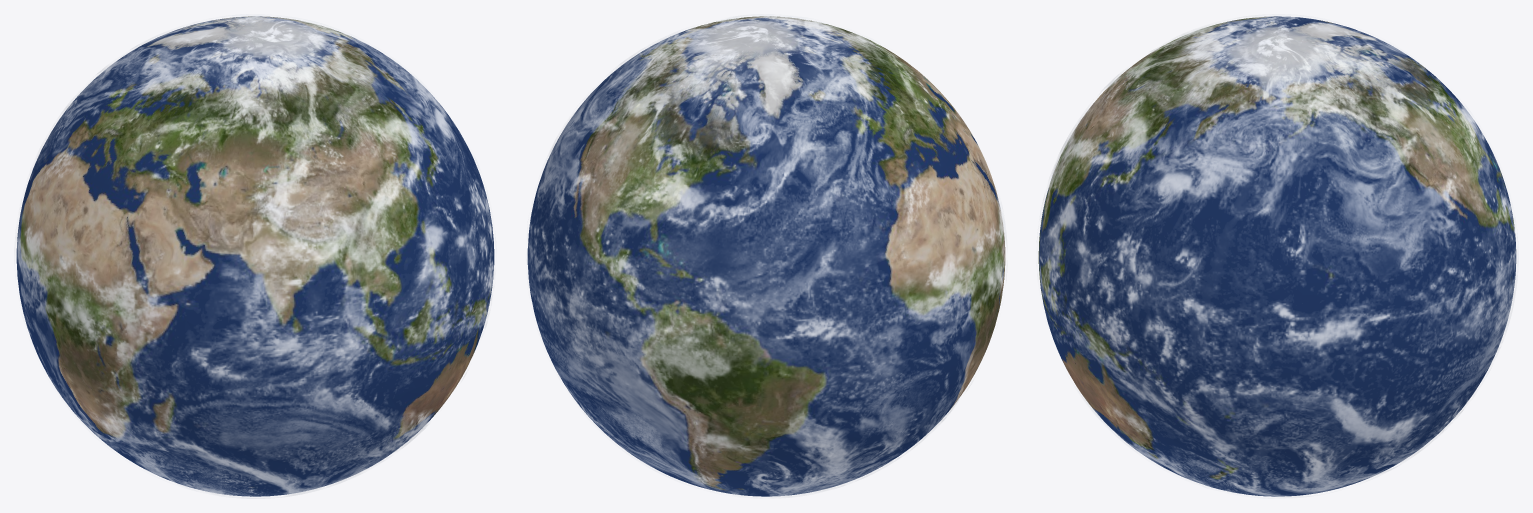
Rendered from planet_earth.glb.
3 views of the same model, side by side, from view 1: azimuth 30°, elevation 25°; view 2: azimuth 150°, elevation 25°; view 3: azimuth 270°, elevation 25° (orthographic).
Visible parts, largest first — view 1: Object_6, Object_8; view 2: Object_6, Object_8; view 3: Object_6, Object_8.
Part boxes in pixels (x1,y1,x2,y2): Object_6: (16, 16, 494, 496); Object_8: (14, 14, 496, 498); Object_6: (527, 16, 1005, 496); Object_8: (526, 14, 1007, 498); Object_6: (1038, 16, 1516, 496); Object_8: (1036, 14, 1518, 498).
Size of the model in its own units: 266 by 268 by 266.
Materials: 3 (2 with a texture image).
